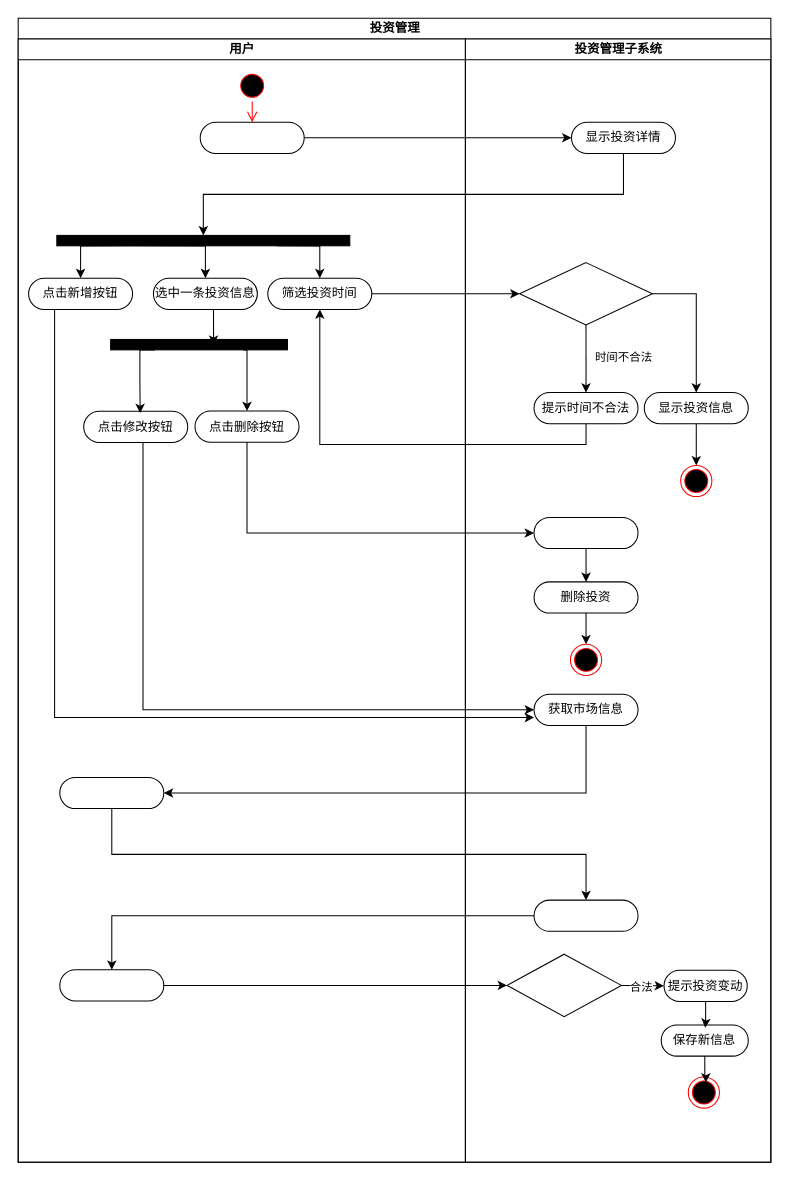
This 789x1180 diagram has some shape labels left out. Each missing label, with the centre of its shape:
"填写投资表单" goes at [111,985].
"提示投资删除" goes at [585,532].
"显示投资表单" goes at [585,915].
"进入投资管理页面" goes at [251,137].
"选择投资产品" goes at [111,792].
"验证信息是否合法" goes at [563,985].
"验证投资时间是否合 法" goes at [585,293].
